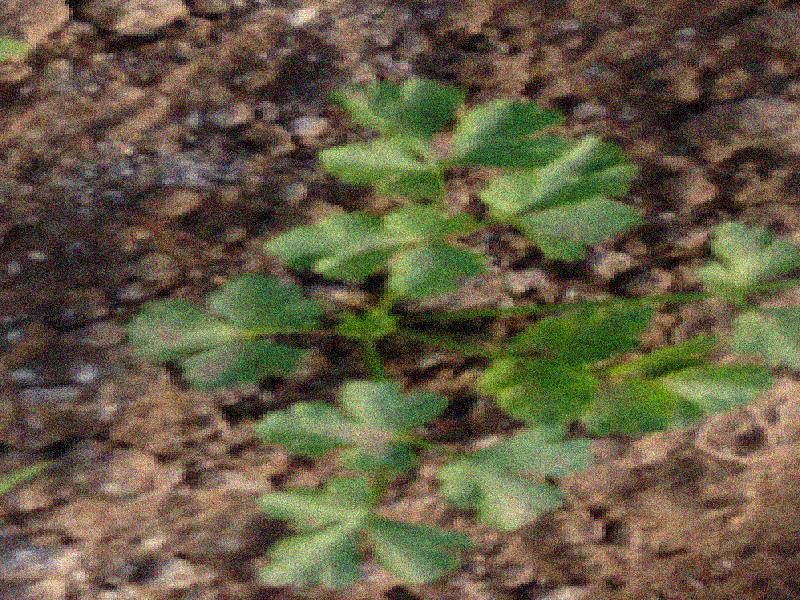radish: (100, 135, 726, 545)
